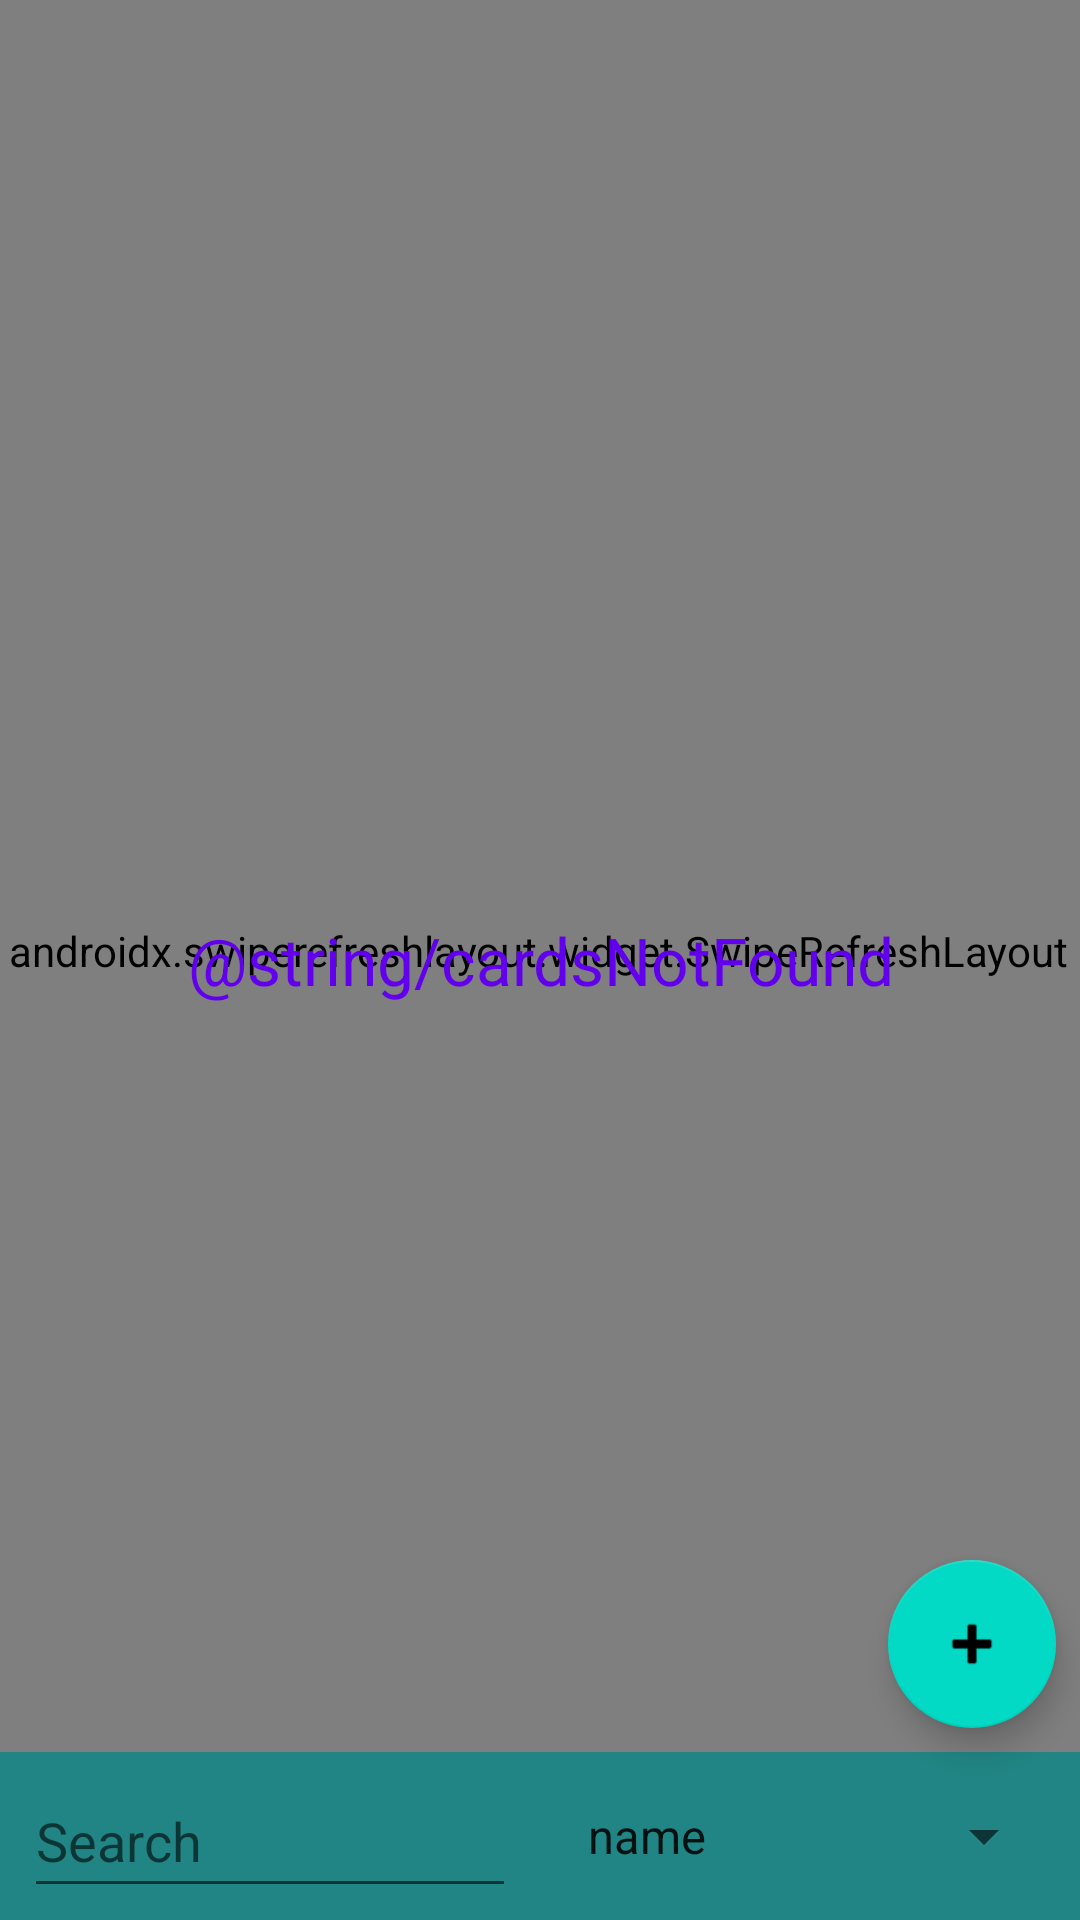

Point at icon controls on the screen. Image size 1080w x 1920h, points as [x,y].
Floating Add Button: [972,1644]
